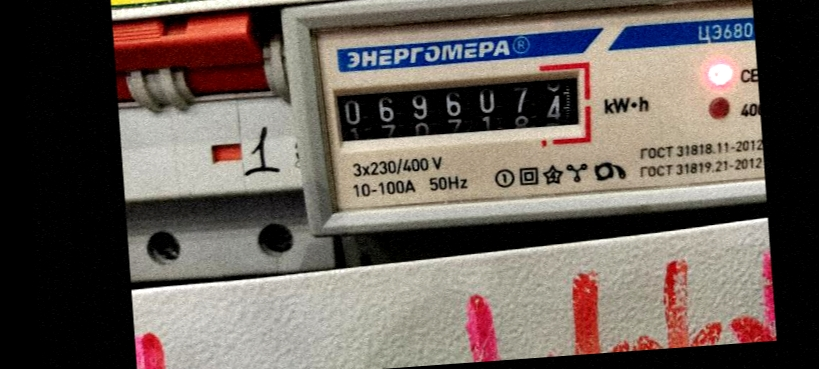0: (342, 97, 365, 127), (479, 85, 499, 115), (378, 95, 397, 122)
4: (546, 93, 565, 122)
6: (444, 87, 464, 118)
7: (512, 83, 532, 114)
9: (411, 92, 431, 121)
screen: (320, 58, 599, 161)
